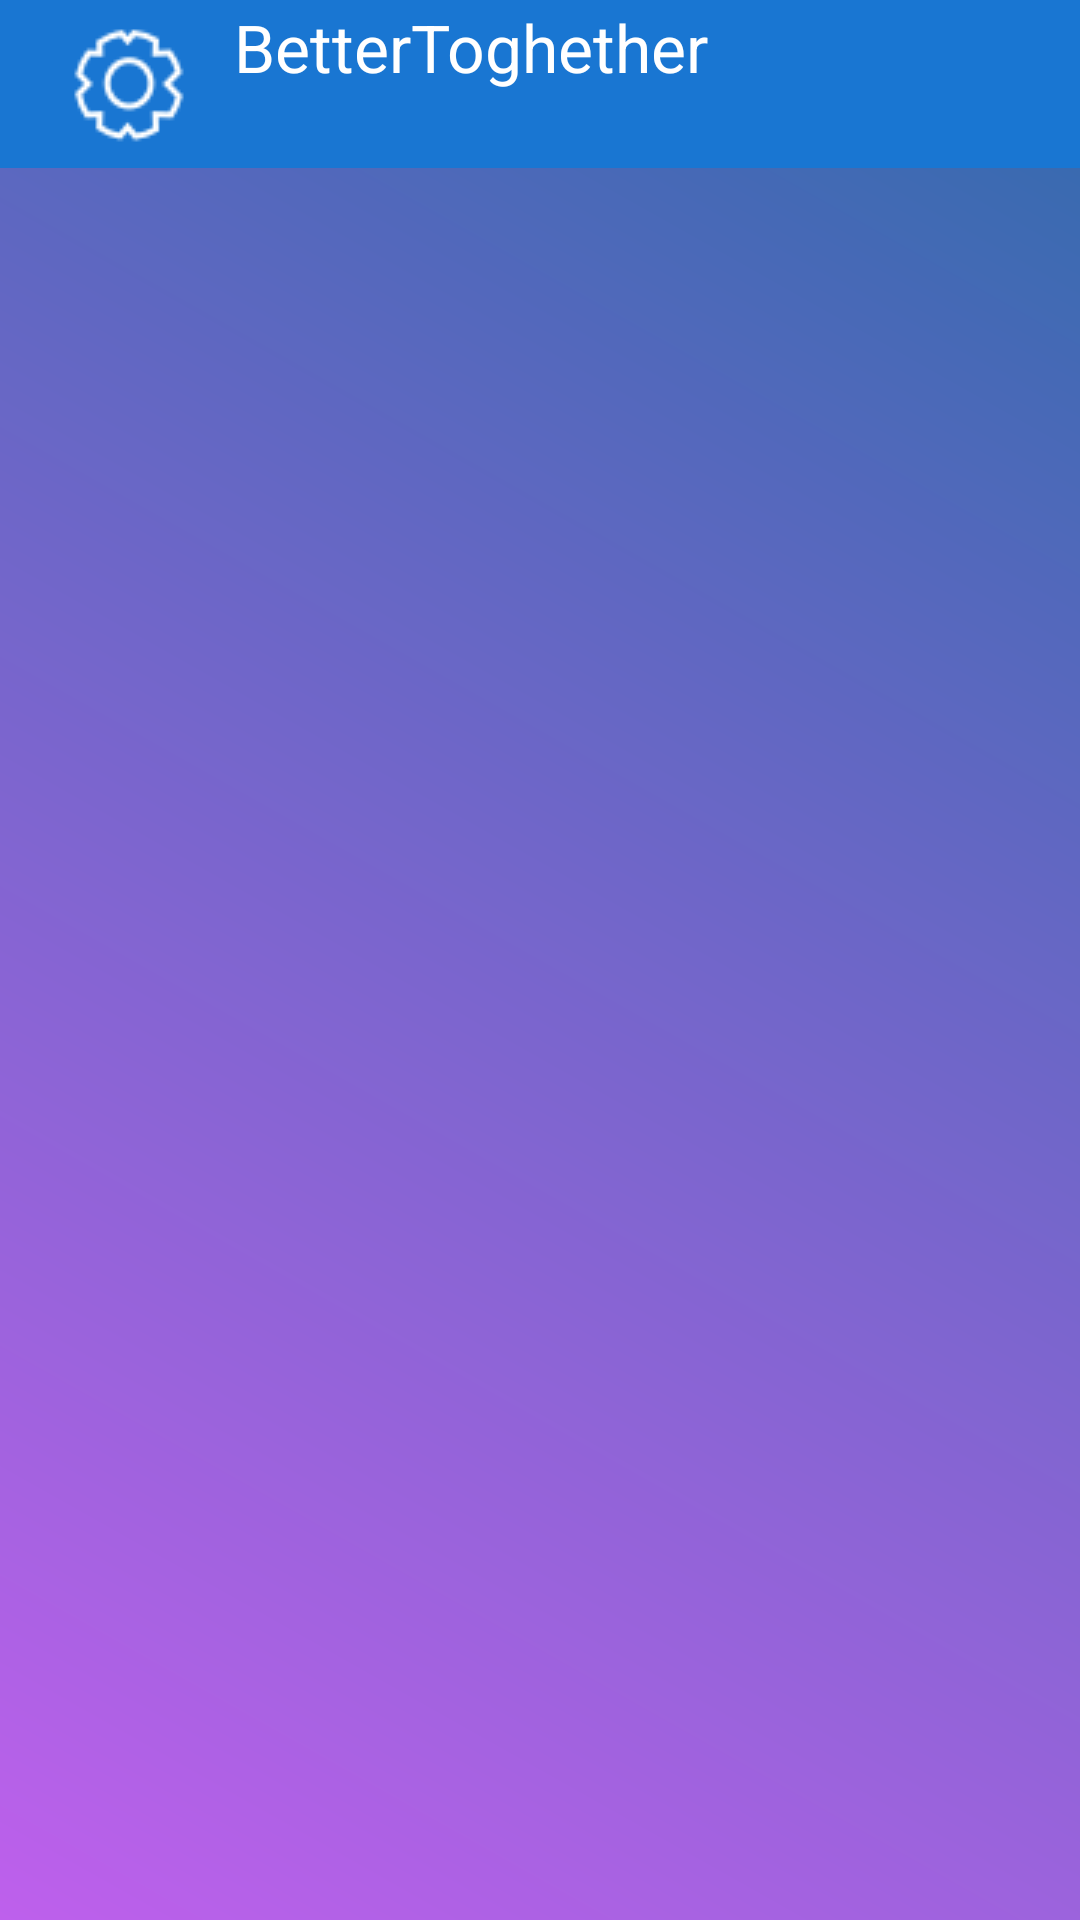

Point at icon controls on the screen. Image size 1080 x 1920, points as [x,y].
settings: [129,85]
